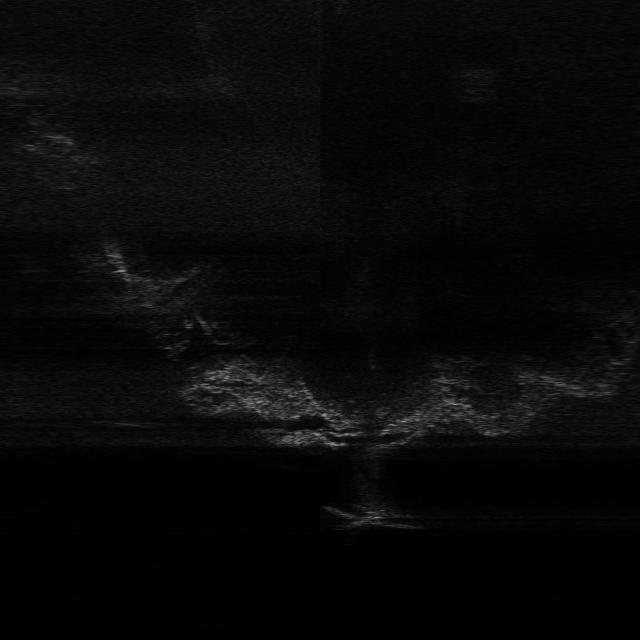plane: (320, 502, 426, 530)
